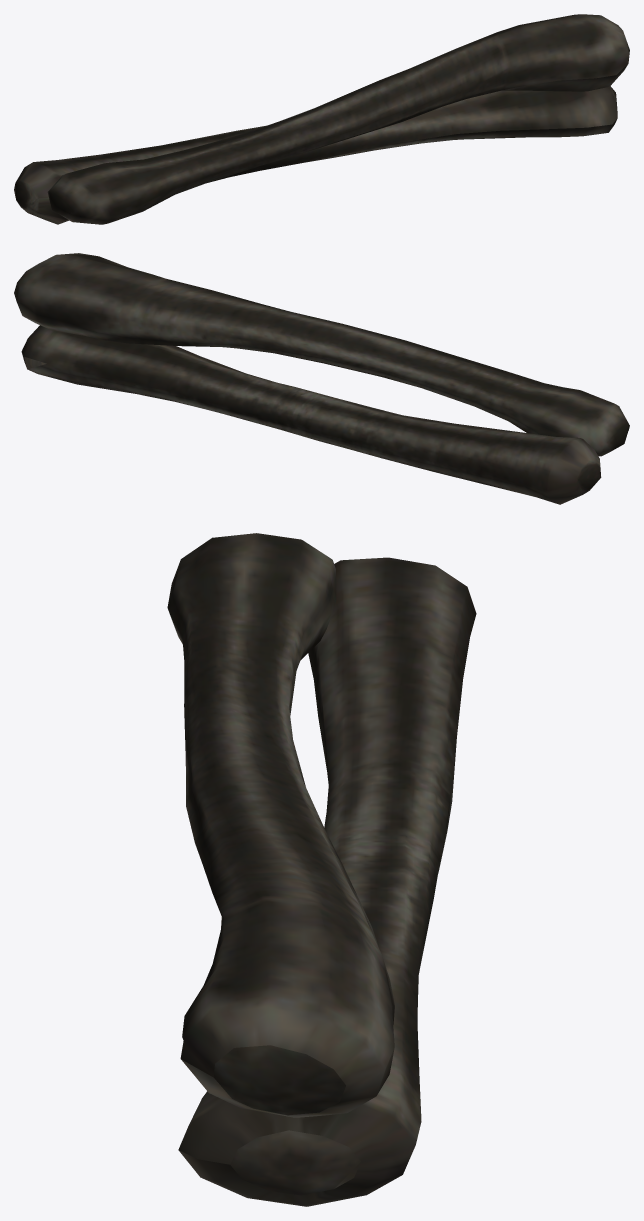
Rendered from right_arm_1.obj.
3 renders of one model, top to bottom at view 1: azimuth 30°, elevation 25°; view 2: azimuth 150°, elevation 25°; view 3: azimuth 270°, elevation 25°, orthographic. The views are drawn at different scales.
Visible parts, largest first — view 1: arm_2_dr_Material; view 2: arm_2_dr_Material; view 3: arm_2_dr_Material.
Part boxes in pixels (x1,y1,x2,y2): arm_2_dr_Material: [14, 14, 629, 224]; arm_2_dr_Material: [14, 253, 629, 504]; arm_2_dr_Material: [167, 533, 476, 1206].
Size of the model in its own units: 0.241 by 0.0428 by 0.0551.
